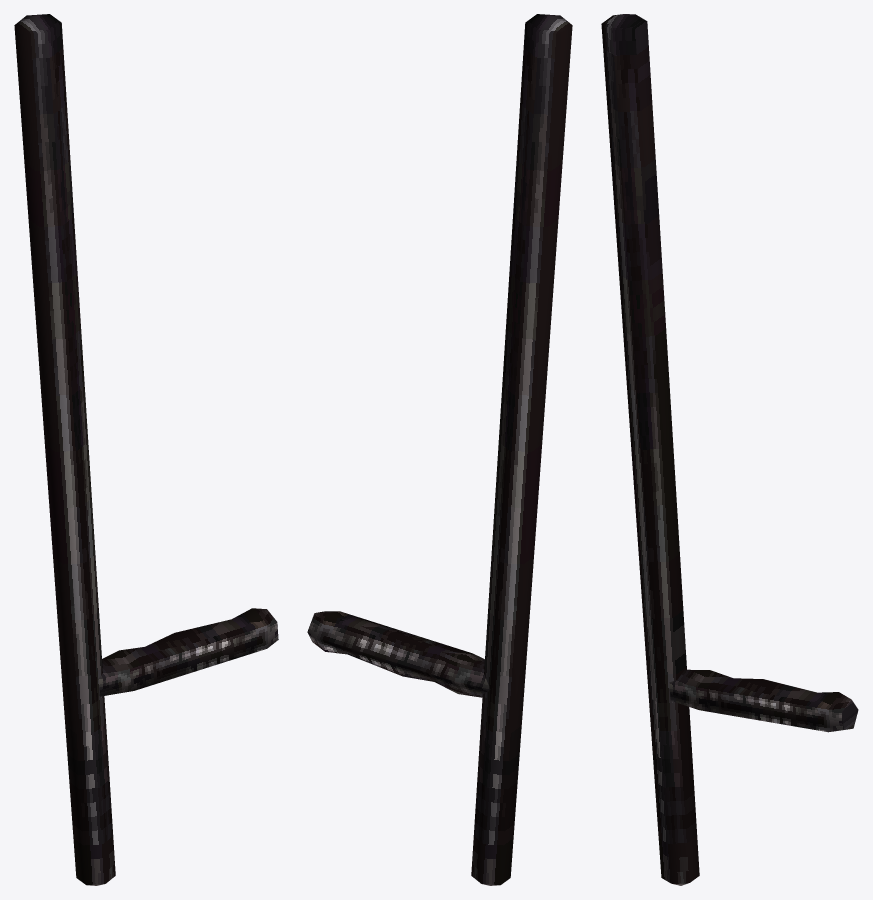
The model's file is Nitestick.fbx.
3 renders of one model, left to right at view 1: azimuth 30°, elevation 25°; view 2: azimuth 150°, elevation 25°; view 3: azimuth 330°, elevation 25°, orthographic. The views are drawn at different scales.
Parts seen in each view (by area): view 1: nitestick; view 2: nitestick; view 3: nitestick.
Part boxes in pixels (x1,y1,x2,y2): nitestick: [14, 14, 278, 885]; nitestick: [307, 14, 572, 885]; nitestick: [601, 14, 858, 885].
Bounding box in the file's own units: 19.72 × 66.31 × 3.14.
1 material, 1 textured.
